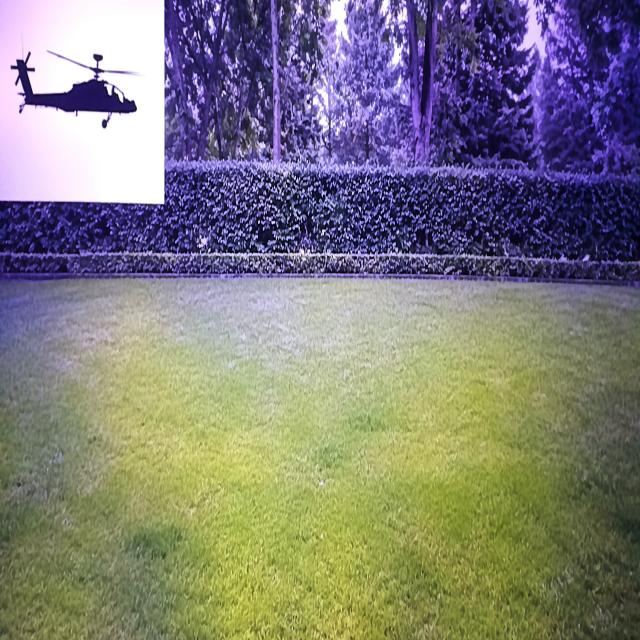Apache friendly: (11, 51, 138, 127)
